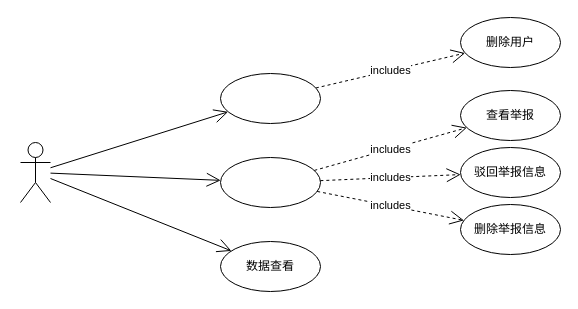
This 578x309 diagram has some shape labels left out. The centre of each missing label's shape, as x and y in pixels:
举报处理: the point at 270,182
用户管理: the point at 270,98
管理员: the point at 35,172
